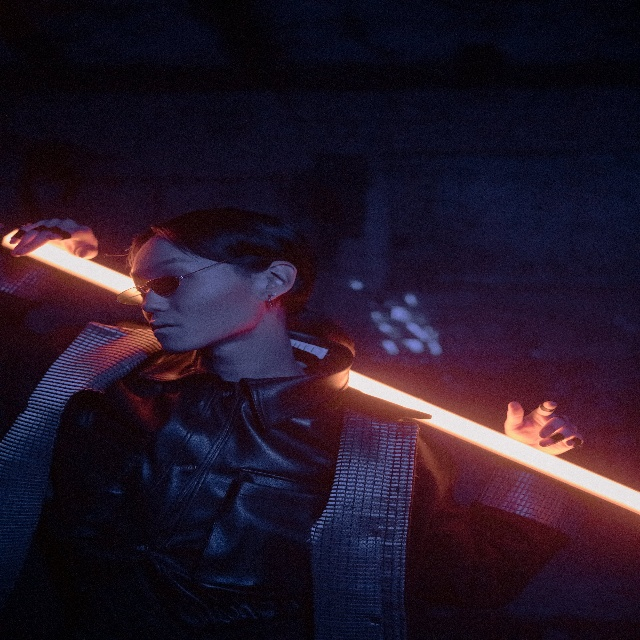Gafas: (114, 277, 182, 306)
Sin_guantes: (503, 391, 583, 461), (7, 213, 101, 267)
